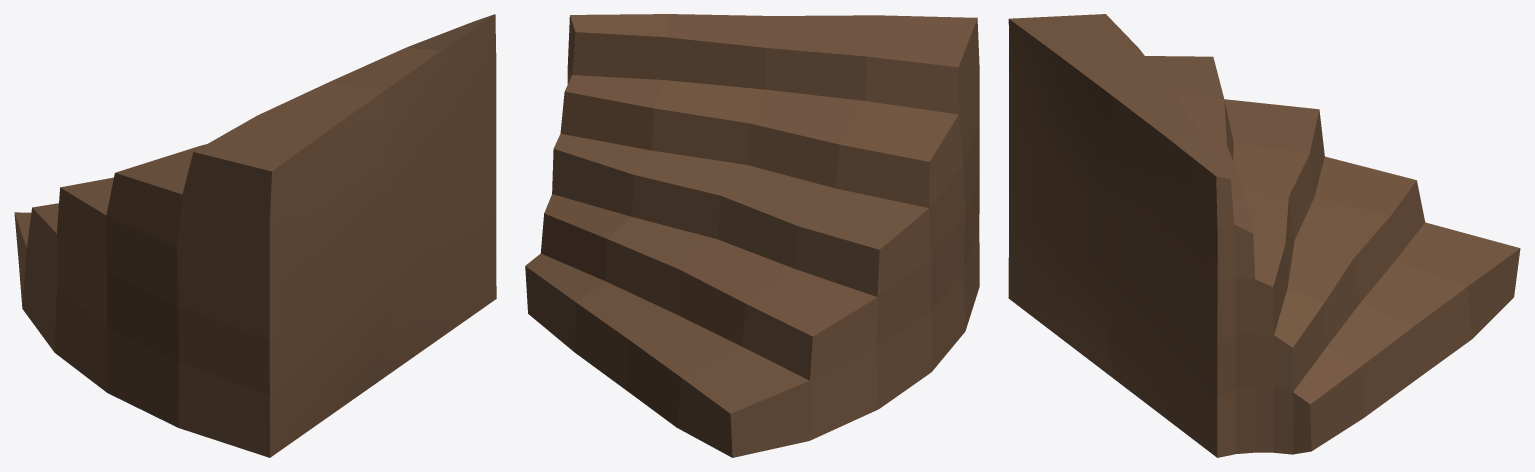
File: Stone_Stairs_Small_Bend1.fbx
3 renders of one model, left to right at view 1: azimuth 30°, elevation 25°; view 2: azimuth 150°, elevation 25°; view 3: azimuth 270°, elevation 25°, orthographic. The views are drawn at different scales.
Visible parts, largest first — view 1: Stone_Stairs_Small_Bend1; view 2: Stone_Stairs_Small_Bend1; view 3: Stone_Stairs_Small_Bend1.
Boxes of the visible parts, x1,y1,x2,y2 form: Stone_Stairs_Small_Bend1: (14,14,496,457); Stone_Stairs_Small_Bend1: (525,14,979,457); Stone_Stairs_Small_Bend1: (1008,14,1520,457).
Bounding box in the file's own units: 206 × 146 × 240.
